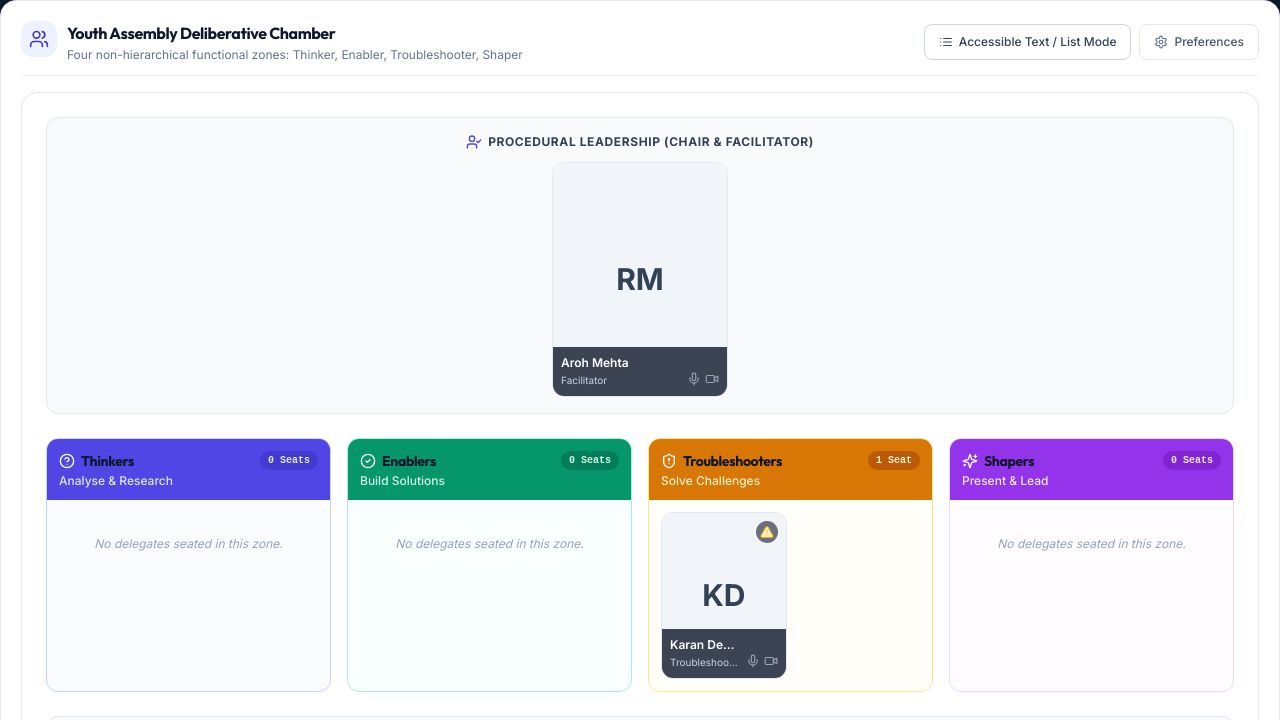
Test case: Reusable Accessible SessionSeating Component (V2 Section 4 + Additions 2 & 4) › Seat Selection & Concise Detail Card › shows dissent details on detail card when selecting a delegate with registered dissent
Click the button with test id "seat-item-seat_karan" at [724, 595], box [661,512,786,679]
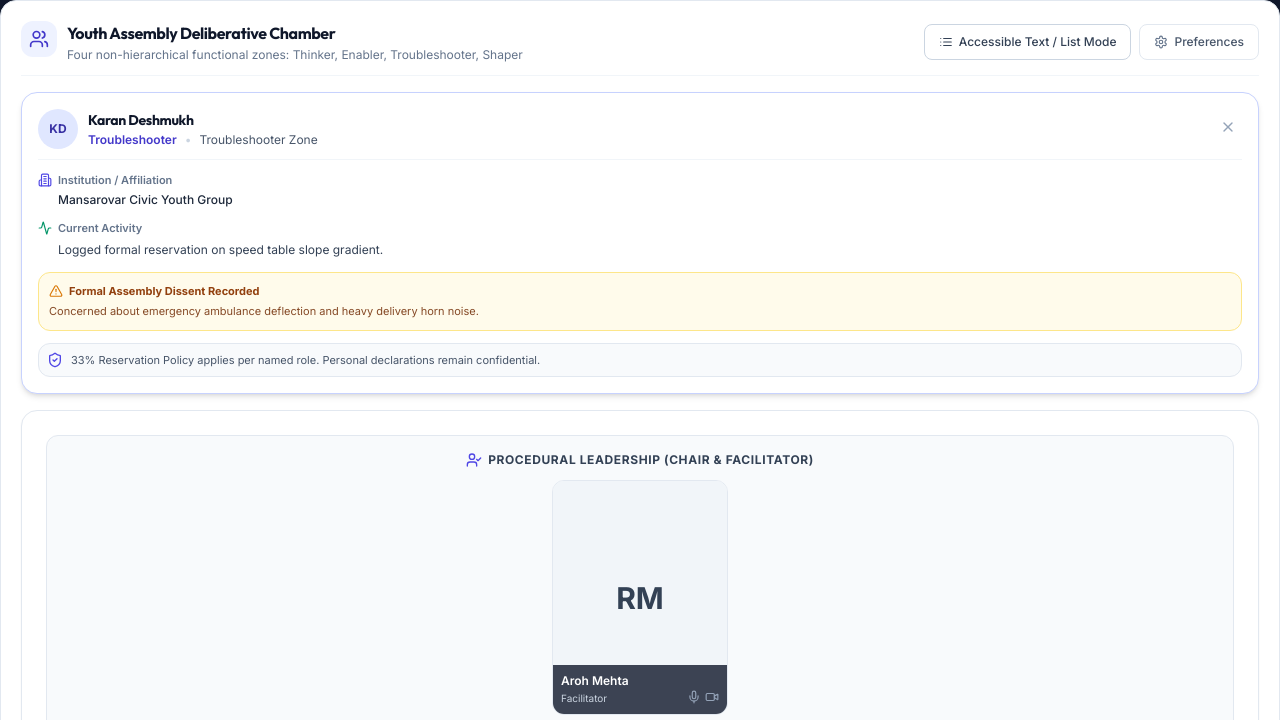
Now the element with test id "seat-detail-card" is shown, box [21,92,1259,394]
Now the element with test id "seat-detail-dissent" shows "Concerned about emergency ambulance deflection", box [49,304,479,318]
